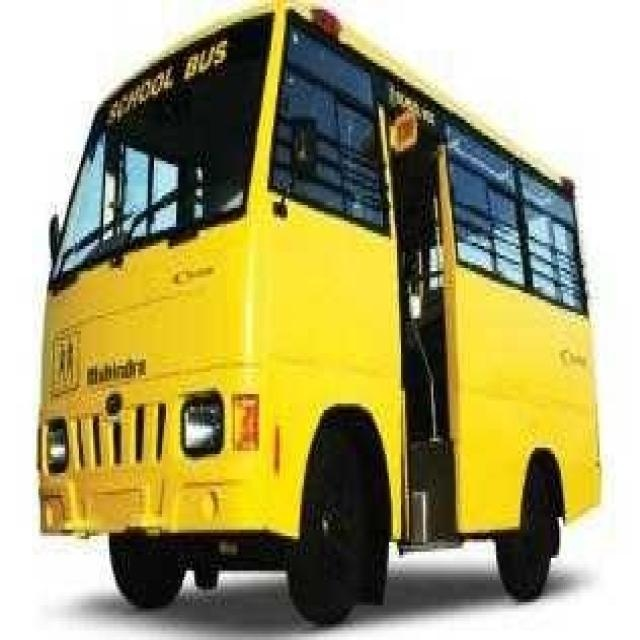Bus: (34, 0, 608, 632)
